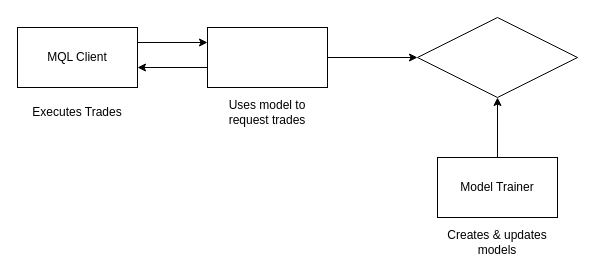
The diagram is 595 pixels wide and 275 high, and some of its shapes have lost their labels. The shapes that lost their labels are listed below. From the top down, each one's centre as x and y in pixels, then its label:
At pixel 267 57: "Python Client".
At pixel 497 57: "Repo/gist containing model & config".
